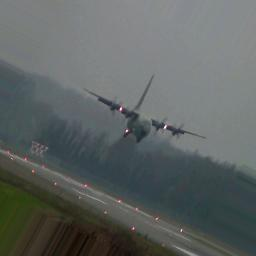Airplane: (83, 73, 208, 144)
